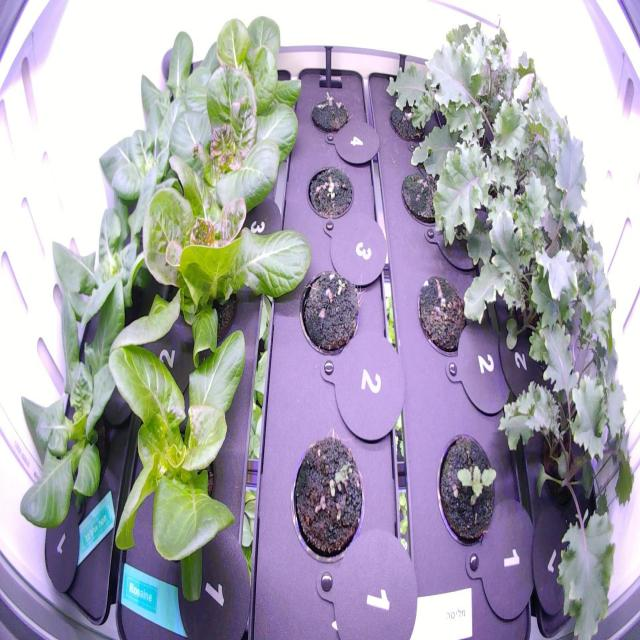germination: (285, 421, 368, 574), (433, 430, 504, 555), (294, 258, 364, 368), (410, 262, 478, 368), (395, 149, 455, 237), (301, 152, 358, 230), (384, 80, 434, 150), (301, 81, 353, 142)
young: (108, 142, 319, 406), (99, 307, 266, 631), (12, 287, 142, 549), (160, 57, 307, 266), (43, 163, 179, 359), (88, 68, 225, 240), (184, 7, 310, 164), (125, 13, 237, 156)
